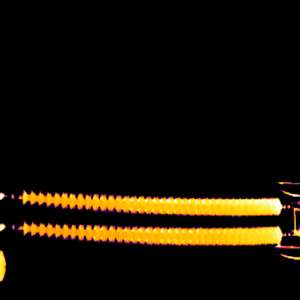insulator: (19, 190, 284, 246)
